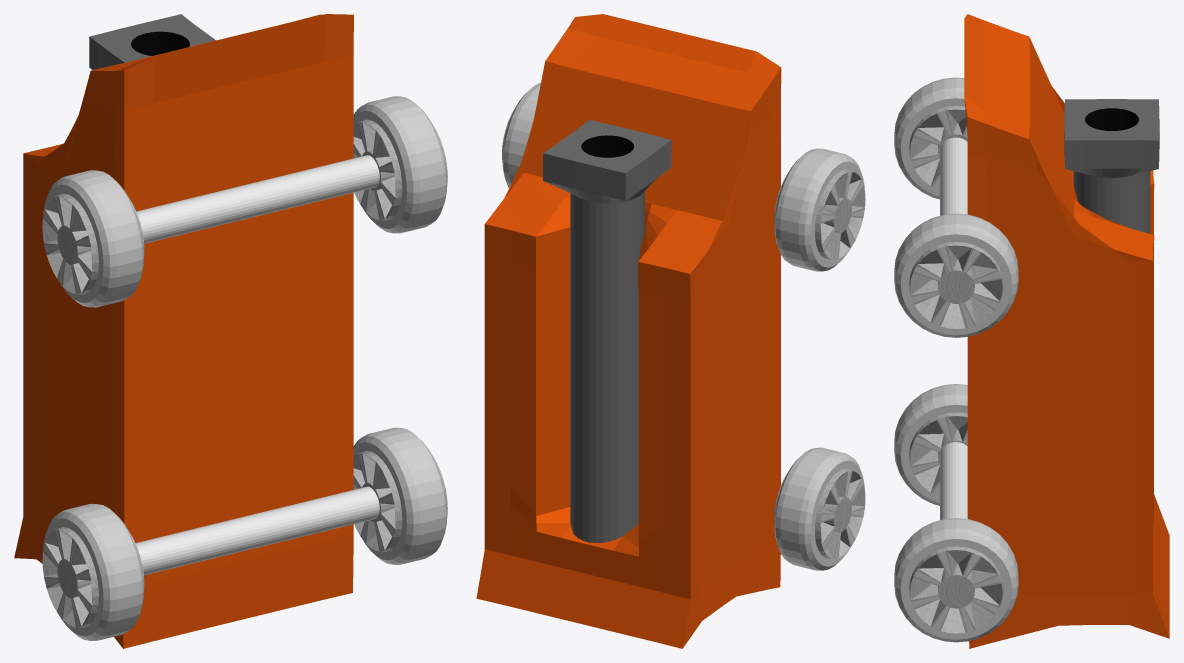
The model's file is Firebringer.fbx.
3 renders of one model, left to right at view 1: azimuth 30°, elevation 25°; view 2: azimuth 150°, elevation 25°; view 3: azimuth 270°, elevation 25°, orthographic. The views are drawn at different scales.
Visible parts, largest first — view 1: Firebringer, Rueda_FR.001, Rueda_BR.001, Rueda_BL.001, Rueda_FL.001, Eje_B.001, Eje_F.001; view 2: Firebringer, Rueda_FR.001, Rueda_BR.001, Rueda_FL.001; view 3: Firebringer, Rueda_BL.001, Rueda_FL.001, Rueda_BR.001, Rueda_FR.001, Eje_F.001, Eje_B.001.
Boxes of the visible parts, bbox=[...] form: Firebringer: bbox=[14, 14, 353, 648]; Rueda_FR.001: bbox=[42, 170, 144, 307]; Rueda_BR.001: bbox=[42, 503, 144, 640]; Rueda_BL.001: bbox=[353, 427, 447, 564]; Rueda_FL.001: bbox=[353, 96, 447, 233]; Eje_B.001: bbox=[135, 486, 379, 575]; Eje_F.001: bbox=[136, 155, 379, 243]; Firebringer: bbox=[476, 14, 781, 648]; Rueda_FR.001: bbox=[774, 148, 865, 271]; Rueda_BR.001: bbox=[774, 447, 865, 570]; Rueda_FL.001: bbox=[502, 83, 540, 187]; Firebringer: bbox=[964, 14, 1169, 648]; Rueda_BL.001: bbox=[894, 518, 1018, 642]; Rueda_FL.001: bbox=[894, 213, 1018, 337]; Rueda_BR.001: bbox=[894, 384, 967, 505]; Rueda_FR.001: bbox=[894, 77, 967, 199]; Eje_F.001: bbox=[940, 137, 967, 215]; Eje_B.001: bbox=[940, 442, 967, 520].
Bounding box in the file's own units: 311 × 492 × 228.
